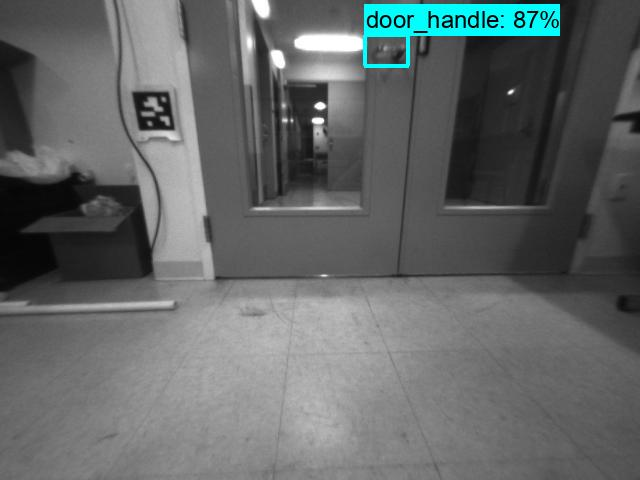door_handle: (364, 36, 409, 67)
